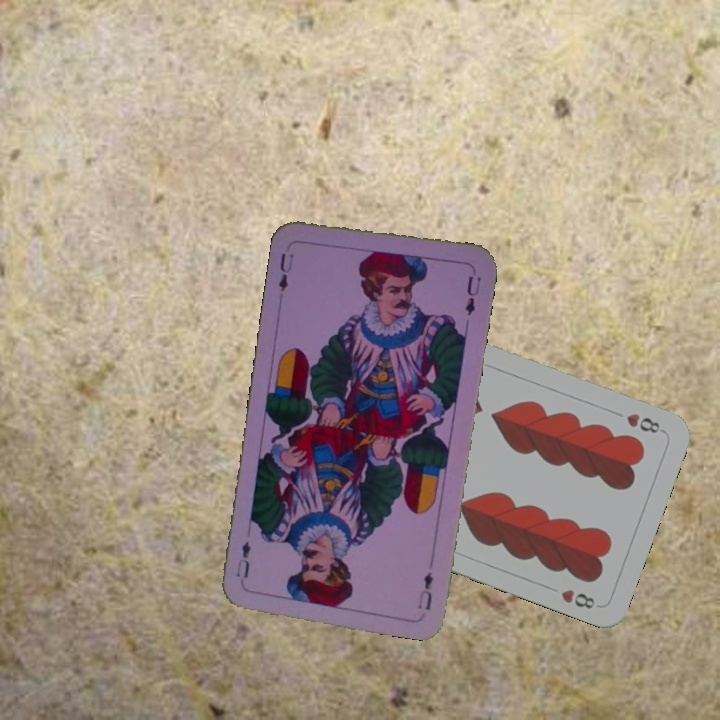EU: (414, 567, 436, 613), (274, 249, 296, 294)
H8: (622, 409, 667, 436)
